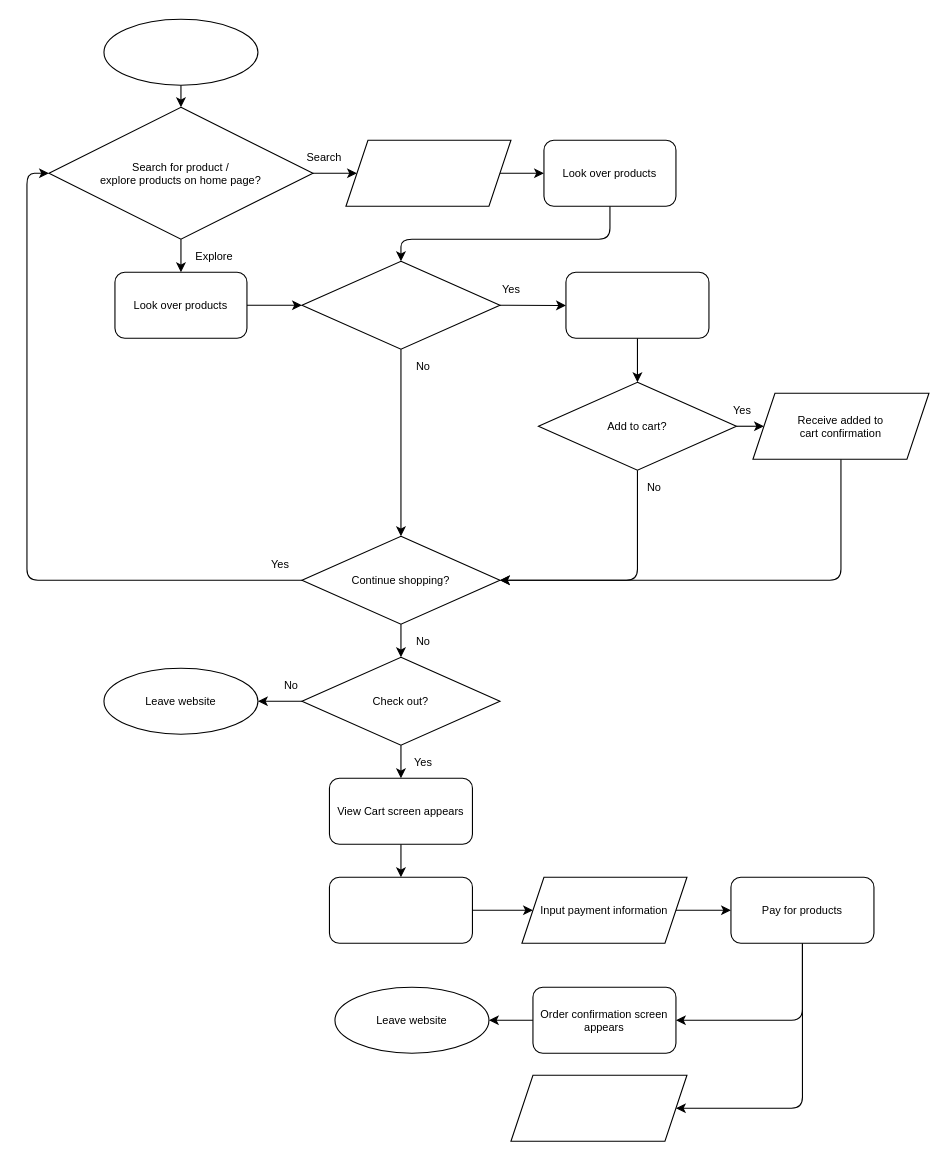
Some shapes in this 948 by 1161 pixel diagram are drawn without their labels. Each missing label, with the centre of its shape:
"Enters website" belongs at pixel 180 51.
"Input product search" belongs at pixel 428 172.
"Product's webpage opens" belongs at pixel 637 304.
"Receive email" belongs at pixel 598 1107.
"View Payment screen appears" belongs at pixel 400 909.
"View specific product?" belongs at pixel 400 304.
